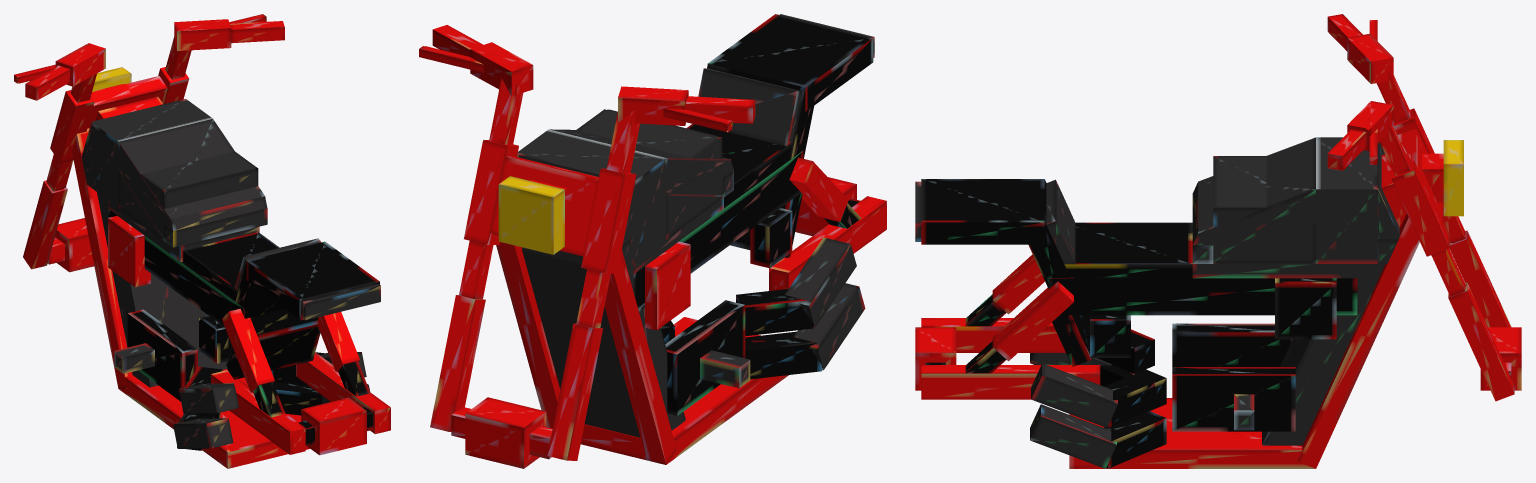
The picture shows the model from 3 angles, left to right: view 1: azimuth 30°, elevation 25°; view 2: azimuth 150°, elevation 25°; view 3: azimuth 270°, elevation 25°; orthographic projection. The views are drawn at different scales.
Visible parts, largest first — view 1: d267be6b-ba94-3407-1c89-5b0c970a3065, c3097ba9-905a-741b-8f58-9122f79ceb59, 4bbef78f-aae2-785c-428e-b897e5ebb6c6, 910b2f90-02c3-8346-e576-eae51cd7bff7, Wheel, eae76488-26ce-2294-b7ae-856771a2d68d, 7a0f29ff-1ff6-4ddb-8b1e-631a8af3b6d5, Engine, 5bc69f33-534a-3037-1d48-98e08733bff8, d65fe0d1-9e47-4ff1-10ce-1fcef8ccb966, Seat, f438cd7b-9563-e803-0820-34542080b6a0 (+34 smaller); view 2: 7a0f29ff-1ff6-4ddb-8b1e-631a8af3b6d5, c3097ba9-905a-741b-8f58-9122f79ceb59, 5bc69f33-534a-3037-1d48-98e08733bff8, 910b2f90-02c3-8346-e576-eae51cd7bff7, Wheel, d65fe0d1-9e47-4ff1-10ce-1fcef8ccb966, eae76488-26ce-2294-b7ae-856771a2d68d, Engine, 9732f688-6855-f3cf-fa93-fc8d21101df1, 4bbef78f-aae2-785c-428e-b897e5ebb6c6, 250d9c9c-60ef-531a-c852-c82a02a7d63b, 9a93168c-bb77-5a64-dacf-b442f9366040 (+32 smaller); view 3: eae76488-26ce-2294-b7ae-856771a2d68d, c3097ba9-905a-741b-8f58-9122f79ceb59, 052d331c-a40b-26f3-f49b-770fbec7e454, d267be6b-ba94-3407-1c89-5b0c970a3065, 910b2f90-02c3-8346-e576-eae51cd7bff7, Seat, Engine, 250d9c9c-60ef-531a-c852-c82a02a7d63b, 7a0f29ff-1ff6-4ddb-8b1e-631a8af3b6d5, 4bbef78f-aae2-785c-428e-b897e5ebb6c6, d65fe0d1-9e47-4ff1-10ce-1fcef8ccb966, 95d456c6-1836-5c03-7c44-f176663680db (+35 smaller).
Part boxes in pixels (x1=…): d267be6b-ba94-3407-1c89-5b0c970a3065: x1=118, y1=119, x2=265, y2=238; c3097ba9-905a-741b-8f58-9122f79ceb59: x1=246, y1=241, x2=379, y2=320; 4bbef78f-aae2-785c-428e-b897e5ebb6c6: x1=118, y1=151, x2=258, y2=240; 910b2f90-02c3-8346-e576-eae51cd7bff7: x1=91, y1=99, x2=212, y2=207; Wheel: x1=54, y1=218, x2=366, y2=455; eae76488-26ce-2294-b7ae-856771a2d68d: x1=108, y1=209, x2=317, y2=338; 7a0f29ff-1ff6-4ddb-8b1e-631a8af3b6d5: x1=97, y1=192, x2=227, y2=387; Engine: x1=119, y1=369, x2=309, y2=468; 5bc69f33-534a-3037-1d48-98e08733bff8: x1=72, y1=128, x2=132, y2=388; d65fe0d1-9e47-4ff1-10ce-1fcef8ccb966: x1=127, y1=309, x2=197, y2=401; Seat: x1=182, y1=232, x2=279, y2=300; f438cd7b-9563-e803-0820-34542080b6a0: x1=211, y1=370, x2=305, y2=454; 7a0f29ff-1ff6-4ddb-8b1e-631a8af3b6d5: x1=522, y1=250, x2=685, y2=437; c3097ba9-905a-741b-8f58-9122f79ceb59: x1=708, y1=14, x2=873, y2=111; 5bc69f33-534a-3037-1d48-98e08733bff8: x1=604, y1=250, x2=676, y2=464; 910b2f90-02c3-8346-e576-eae51cd7bff7: x1=517, y1=129, x2=666, y2=264; Wheel: x1=465, y1=177, x2=856, y2=468; d65fe0d1-9e47-4ff1-10ce-1fcef8ccb966: x1=665, y1=300, x2=745, y2=415; eae76488-26ce-2294-b7ae-856771a2d68d: x1=633, y1=151, x2=803, y2=311; Engine: x1=580, y1=317, x2=788, y2=464; 9732f688-6855-f3cf-fa93-fc8d21101df1: x1=498, y1=176, x2=564, y2=254; 4bbef78f-aae2-785c-428e-b897e5ebb6c6: x1=576, y1=109, x2=722, y2=239; 250d9c9c-60ef-531a-c852-c82a02a7d63b: x1=496, y1=242, x2=560, y2=428; 9a93168c-bb77-5a64-dacf-b442f9366040: x1=698, y1=68, x2=802, y2=146; eae76488-26ce-2294-b7ae-856771a2d68d: x1=1049, y1=277, x2=1357, y2=315; c3097ba9-905a-741b-8f58-9122f79ceb59: x1=921, y1=179, x2=1044, y2=244; 052d331c-a40b-26f3-f49b-770fbec7e454: x1=1172, y1=367, x2=1295, y2=431; d267be6b-ba94-3407-1c89-5b0c970a3065: x1=1198, y1=137, x2=1315, y2=261; 910b2f90-02c3-8346-e576-eae51cd7bff7: x1=1316, y1=137, x2=1377, y2=263; Seat: x1=1064, y1=222, x2=1192, y2=277; Engine: x1=1069, y1=398, x2=1315, y2=468; 250d9c9c-60ef-531a-c852-c82a02a7d63b: x1=1297, y1=213, x2=1419, y2=468; 7a0f29ff-1ff6-4ddb-8b1e-631a8af3b6d5: x1=1262, y1=264, x2=1385, y2=445; 4bbef78f-aae2-785c-428e-b897e5ebb6c6: x1=1213, y1=156, x2=1315, y2=263; d65fe0d1-9e47-4ff1-10ce-1fcef8ccb966: x1=1172, y1=323, x2=1292, y2=366; 95d456c6-1836-5c03-7c44-f176663680db: x1=921, y1=365, x2=1100, y2=399.
Bounding box in the file's own units: 1.02 × 1.21 × 1.84.
1 material, 1 textured.
